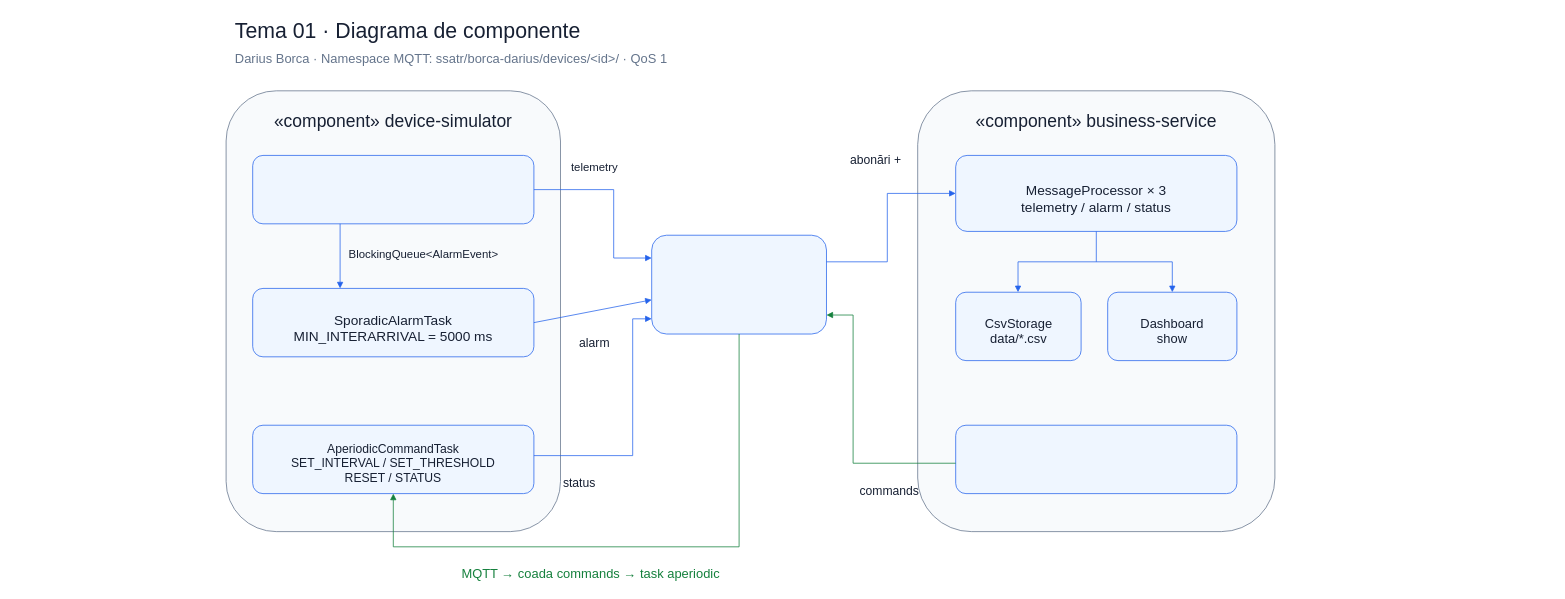
This 1565x599 diagram has some shape labels left out. The centre of each missing label's shape, as x and y in pixels:
"CommandConsole operator → commands" belongs at (1096,459).
"PeriodicTelemetryTask senzor → telemetry" belongs at (393,189).
"«component» Broker MQTT control.aut.utcluj.ro:11188" belongs at (738,284).
